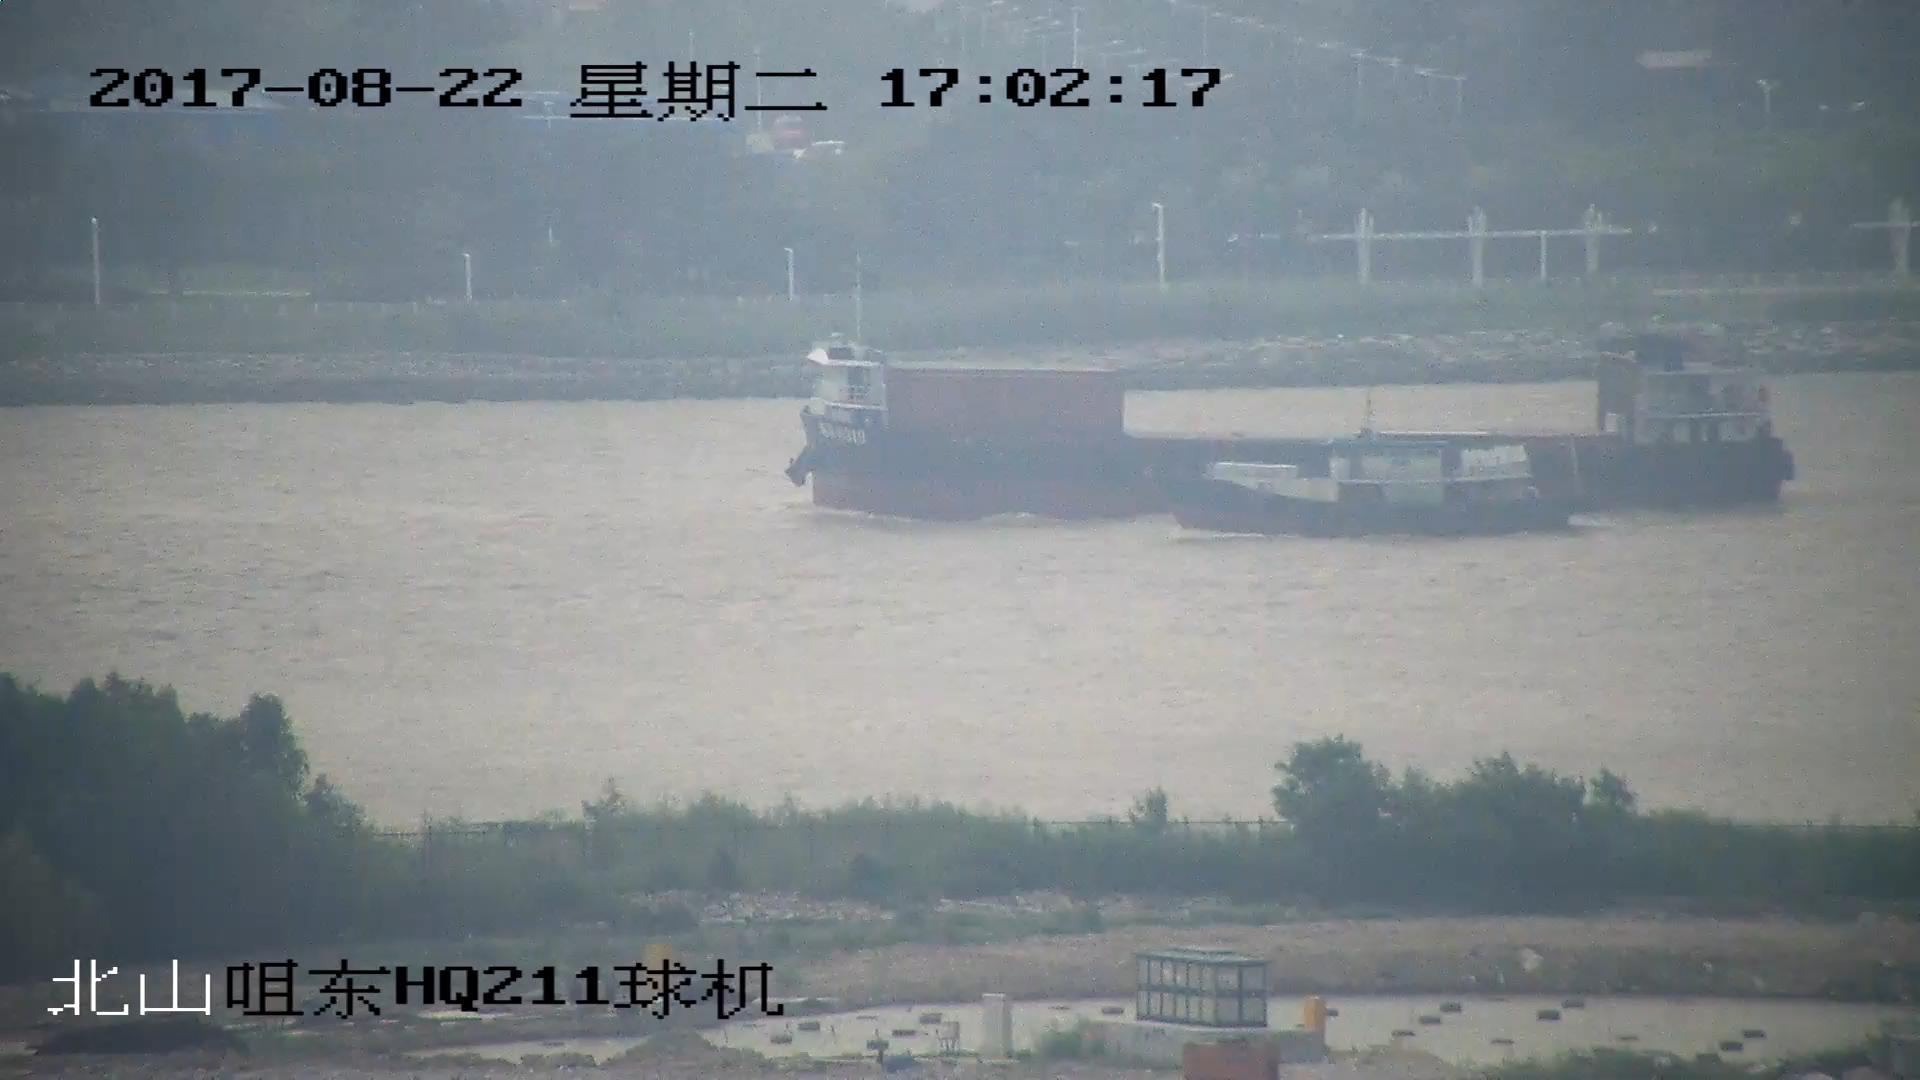Ship: (794, 332, 1793, 521), (1183, 430, 1573, 542)
